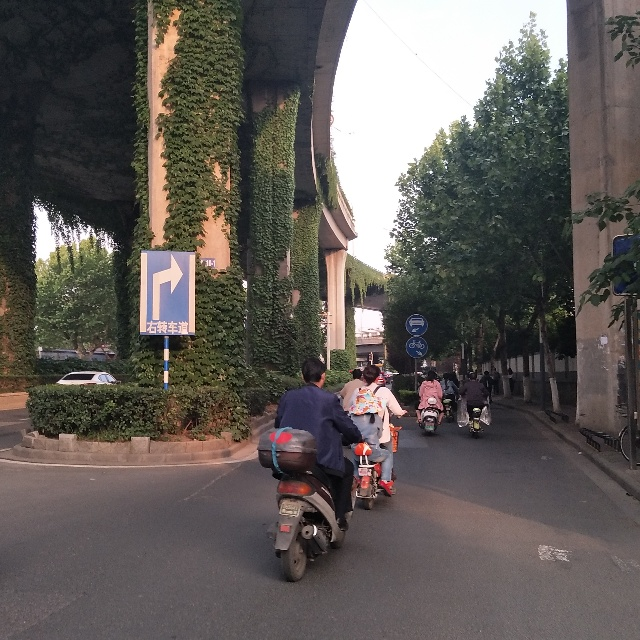right: (147, 250, 194, 330)
